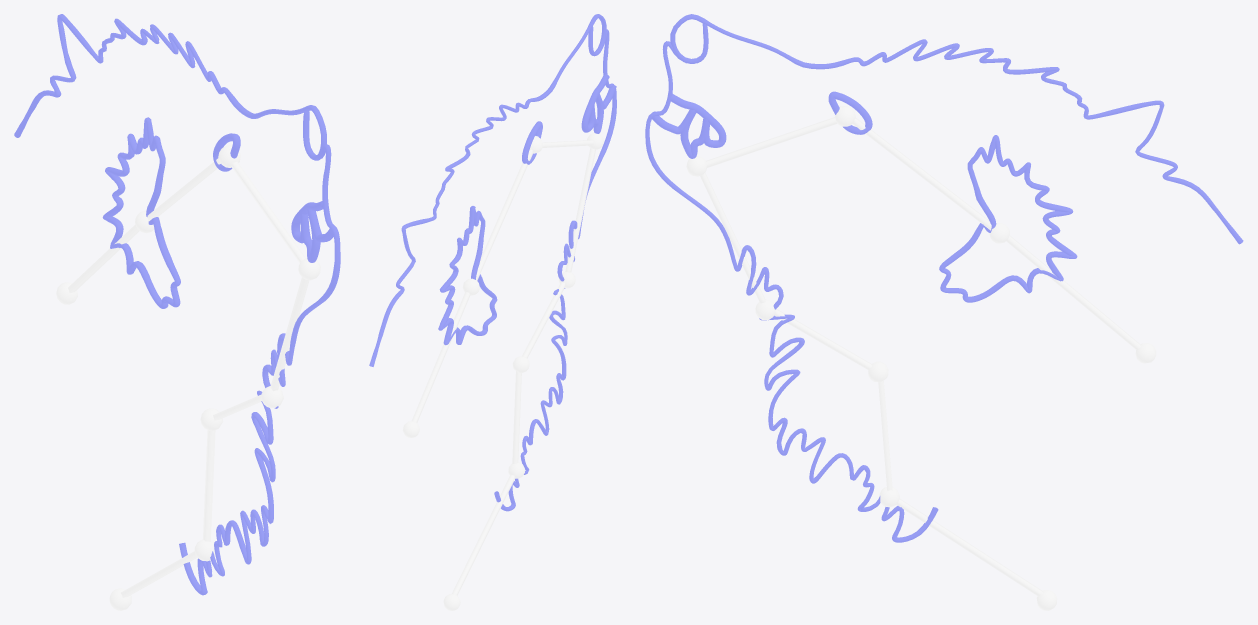
Rendered from wolf.glb.
3 renders of one model, left to right at view 1: azimuth 30°, elevation 25°; view 2: azimuth 150°, elevation 25°; view 3: azimuth 270°, elevation 25°, orthographic. The views are drawn at different scales.
Visible parts, largest first — view 1: Retopo_NurbsPath.009, Retopo_03_woolf; view 2: Retopo_NurbsPath.009, Retopo_03_woolf; view 3: Retopo_NurbsPath.009, Retopo_03_woolf.
Boxes of the visible parts, <box> form: Retopo_NurbsPath.009: <box>14,14,340,595</box>; Retopo_03_woolf: <box>56,145,320,610</box>; Retopo_NurbsPath.009: <box>369,14,616,511</box>; Retopo_03_woolf: <box>402,133,603,610</box>; Retopo_NurbsPath.009: <box>645,14,1243,542</box>; Retopo_03_woolf: <box>686,106,1156,610</box>.
Size of the model in its own units: 0.1238 by 3.85 by 3.5.
